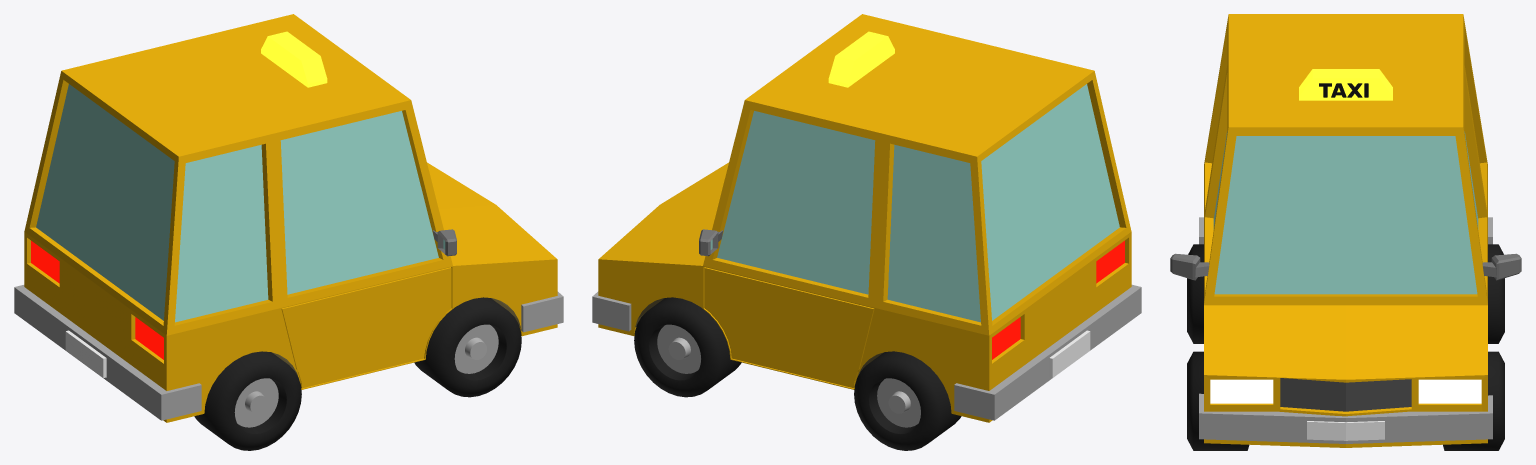
The model's file is car.gltf.
The picture shows the model from 3 angles, left to right: view 1: azimuth 30°, elevation 25°; view 2: azimuth 150°, elevation 25°; view 3: azimuth 270°, elevation 25°; orthographic projection.
Parts seen in each view (by area): view 1: CarrozzeriaTaxi, Ruota4, Ruota2, ParaDietro, InsegnaTaxi, ParaDavanti; view 2: CarrozzeriaTaxi, Ruota3, Ruota1, ParaDietro, InsegnaTaxi, ParaDavanti; view 3: CarrozzeriaTaxi, ParaDavanti, InsegnaTaxi, Ruota1, Ruota2, Specchietto, Ruota3, Ruota4, TaxiText.
Part boxes in pixels (left/top/right/bottom): CarrozzeriaTaxi: left=24, top=14, right=557, bottom=422; Ruota4: left=194, top=351, right=301, bottom=450; Ruota2: left=414, top=297, right=521, bottom=397; ParaDietro: left=14, top=285, right=201, bottom=420; InsegnaTaxi: left=261, top=31, right=327, bottom=87; ParaDavanti: left=521, top=291, right=563, bottom=332; CarrozzeriaTaxi: left=598, top=14, right=1131, bottom=422; Ruota3: left=854, top=351, right=961, bottom=450; Ruota1: left=634, top=297, right=741, bottom=397; ParaDietro: left=954, top=284, right=1141, bottom=420; InsegnaTaxi: left=828, top=31, right=894, bottom=87; ParaDavanti: left=592, top=291, right=631, bottom=331; CarrozzeriaTaxi: left=1204, top=14, right=1487, bottom=447; ParaDavanti: left=1199, top=393, right=1492, bottom=443; InsegnaTaxi: left=1299, top=69, right=1392, bottom=100; Ruota1: left=1443, top=351, right=1504, bottom=450; Ruota2: left=1187, top=351, right=1249, bottom=450; Specchietto: left=1170, top=253, right=1521, bottom=280; Ruota3: left=1488, top=244, right=1504, bottom=343; Ruota4: left=1187, top=244, right=1203, bottom=343; TaxiText: left=1319, top=83, right=1368, bottom=97.
Size of the model in its own units: 3.39 by 2.48 by 2.47.
